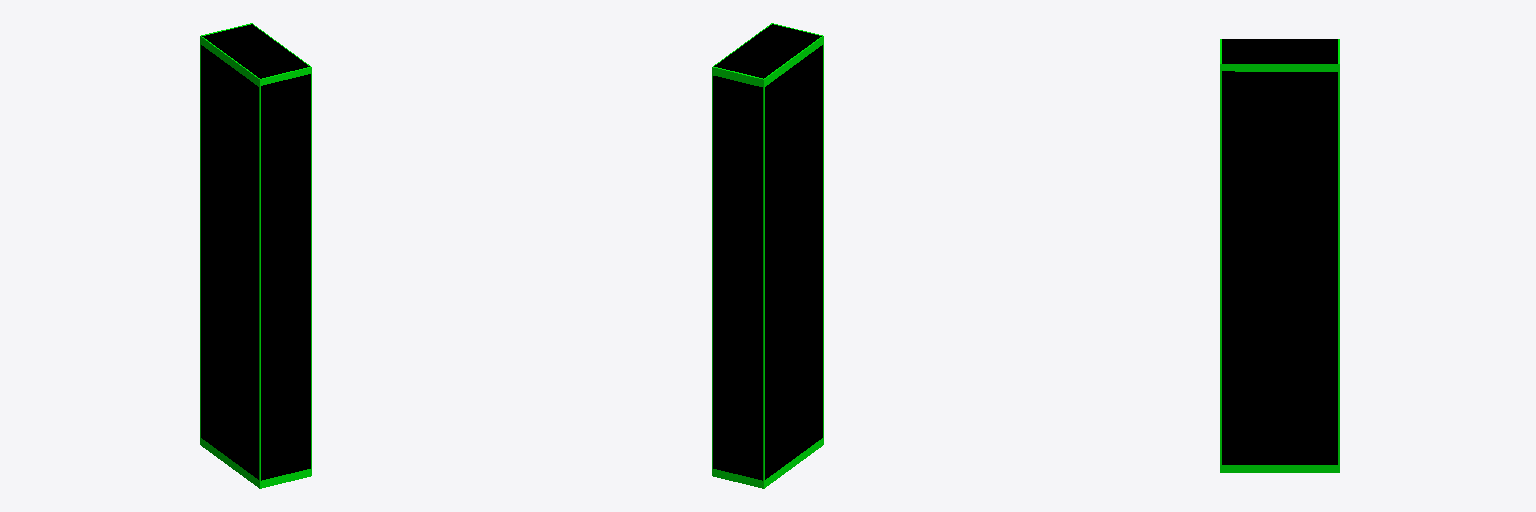
3 renders of one model, left to right at view 1: azimuth 30°, elevation 25°; view 2: azimuth 150°, elevation 25°; view 3: azimuth 270°, elevation 25°, orthographic.
Visible parts, largest first — view 1: 立方体; view 2: 立方体; view 3: 立方体.
Boxes of the visible parts, box(x1,y1,x2,y2) form: 立方体: box(200, 23, 311, 488); 立方体: box(712, 23, 823, 488); 立方体: box(1220, 39, 1339, 472).
Size of the model in its own units: 1 by 7.5 by 2.
Materials: 1 (1 with a texture image).